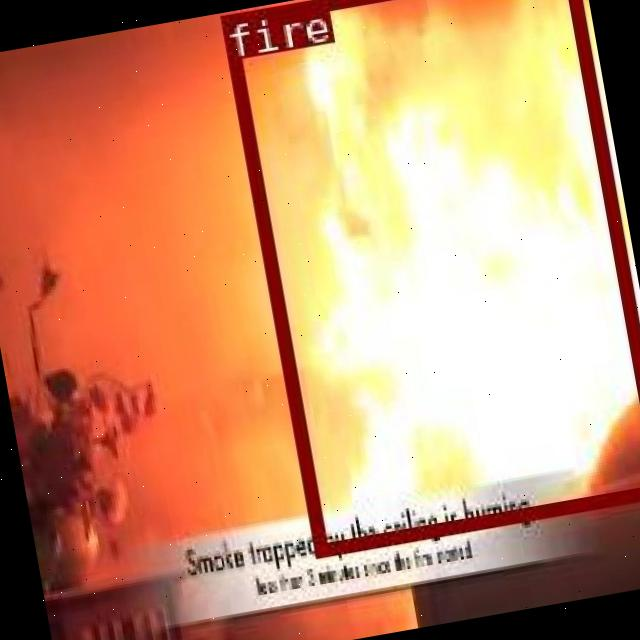fire: (217, 0, 640, 556)
